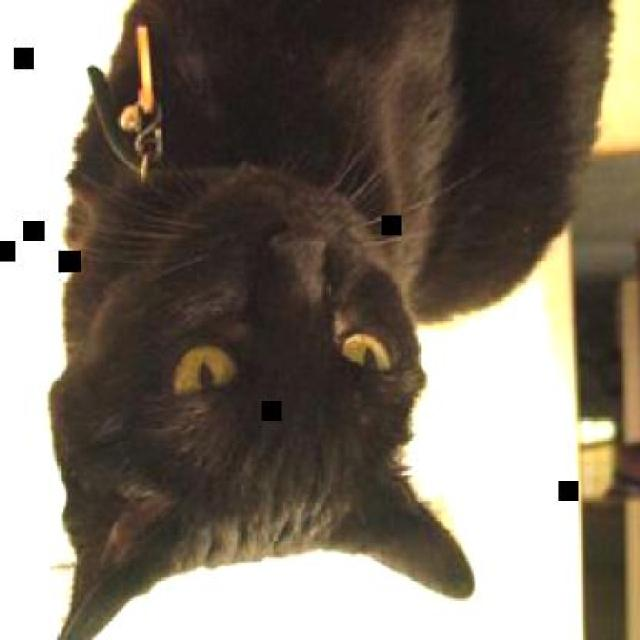cat: (45, 1, 623, 638)
